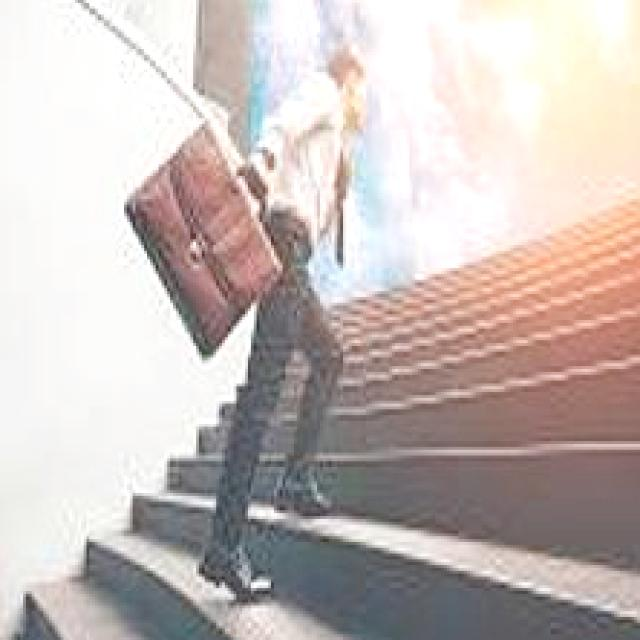upstair: (111, 434, 488, 604)
